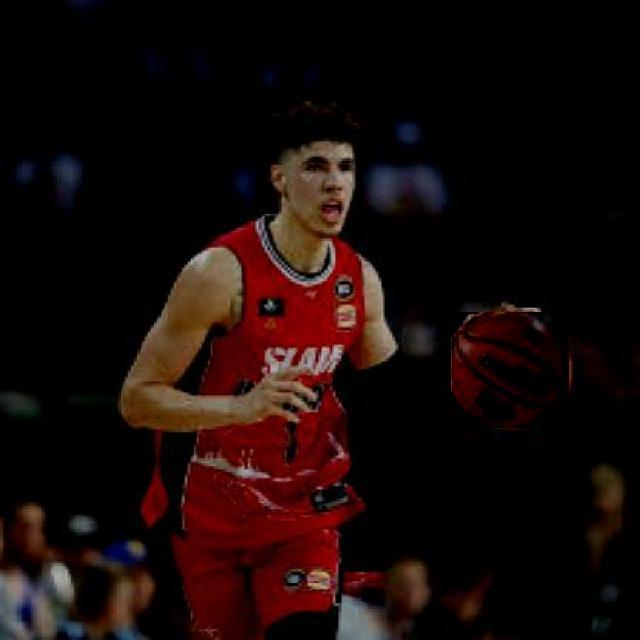Ball: (452, 312, 568, 427)
